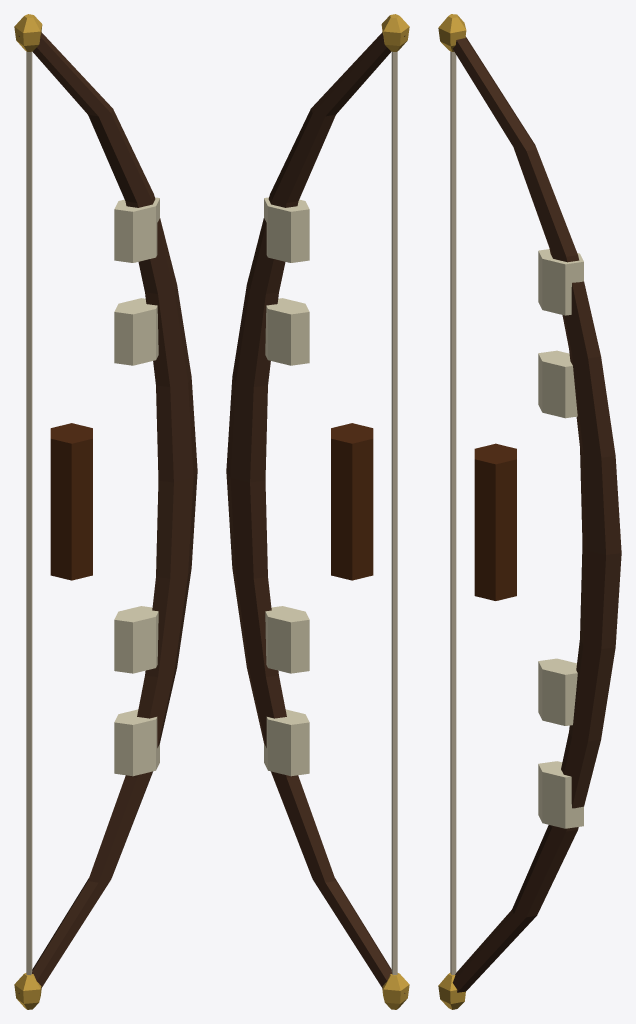
File: wpn_bow_6.glb
The picture shows the model from 3 angles, left to right: view 1: azimuth 30°, elevation 25°; view 2: azimuth 150°, elevation 25°; view 3: azimuth 330°, elevation 25°; orthographic projection.
Parts seen in each view (by area): view 1: wpn_bow_6; view 2: wpn_bow_6; view 3: wpn_bow_6.
Part boxes in pixels (x1=…): wpn_bow_6: x1=14, y1=14, x2=197, y2=1009; wpn_bow_6: x1=226, y1=14, x2=409, y2=1009; wpn_bow_6: x1=438, y1=14, x2=621, y2=1009.
Bounding box in the file's own units: 0.2192 × 1.16 × 0.045.
